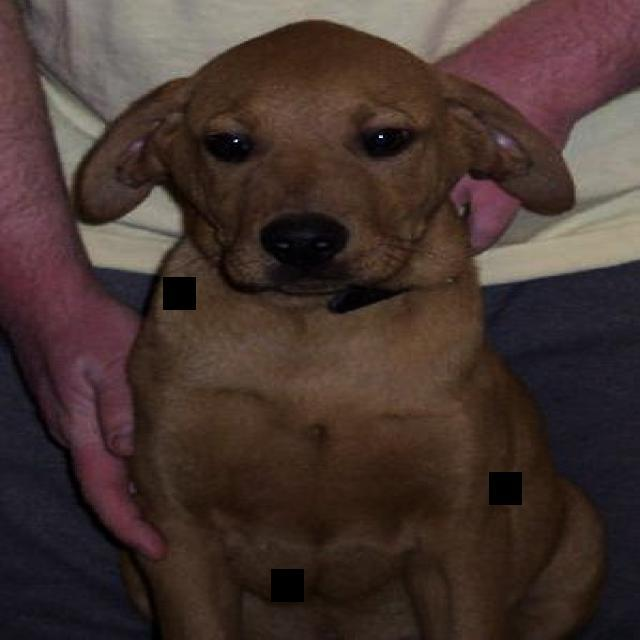adult_dog: (75, 19, 609, 640)
